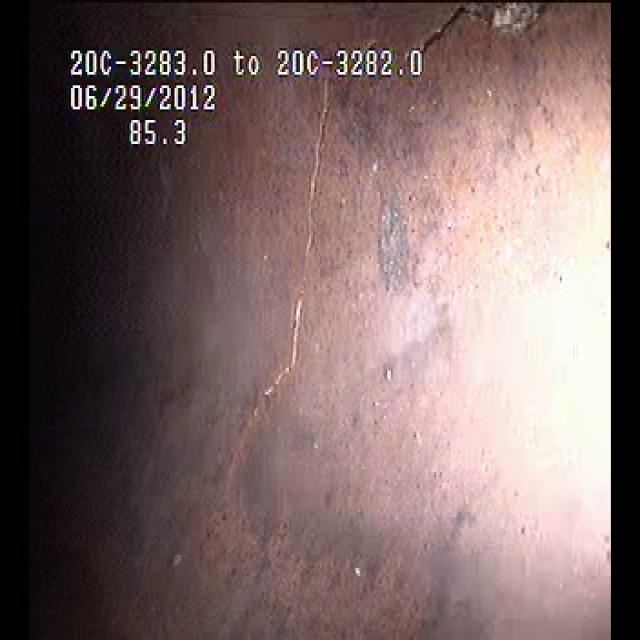Crack: (273, 112, 340, 436)
